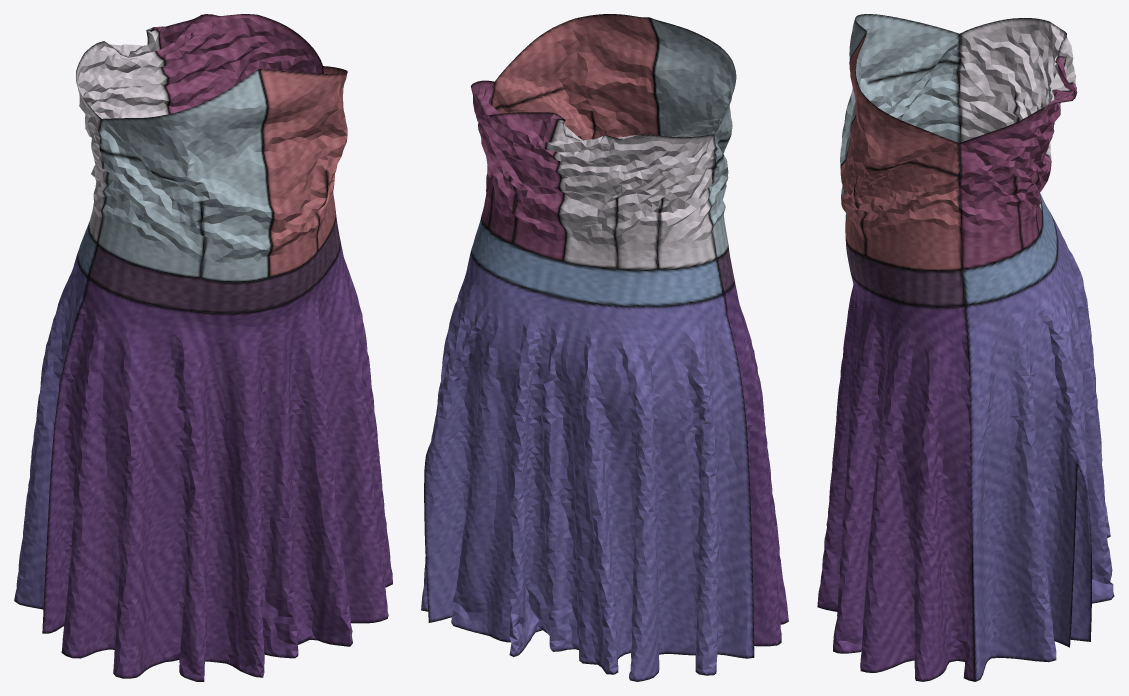
File: valid_garment_wholebody_sim.obj
3 renders of one model, left to right at view 1: azimuth 30°, elevation 25°; view 2: azimuth 150°, elevation 25°; view 3: azimuth 270°, elevation 25°, orthographic.
Size of the model in its own units: 48.74 by 81.34 by 37.23.
Materials: 1 (1 with a texture image).
